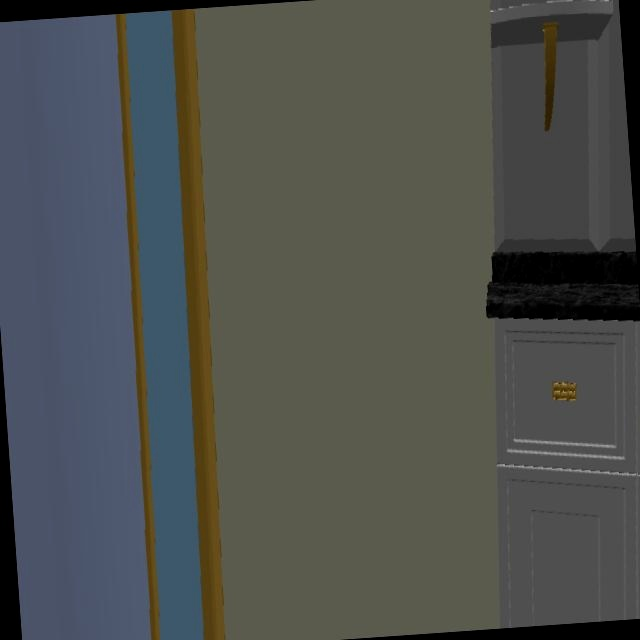shower: (0, 8, 237, 640)
